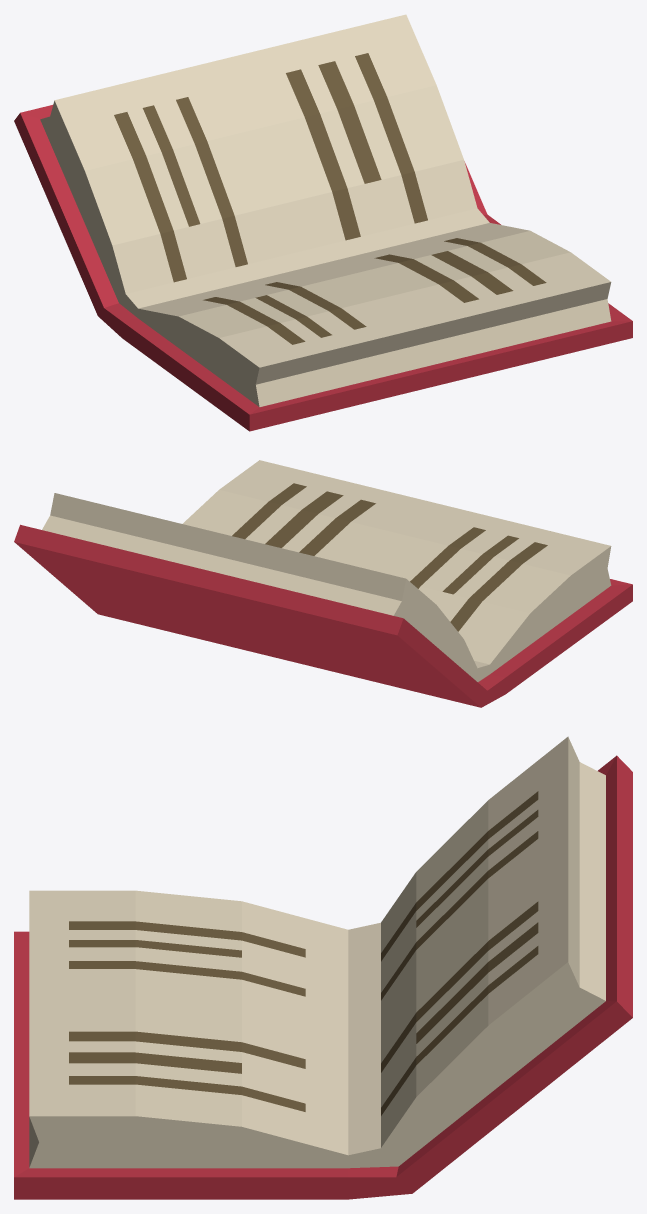
Rendered from Book2.glb.
3 renders of one model, top to bottom at view 1: azimuth 30°, elevation 25°; view 2: azimuth 150°, elevation 25°; view 3: azimuth 270°, elevation 25°, orthographic. The views are drawn at different scales.
Parts seen in each view (by area): view 1: Book2; view 2: Book2; view 3: Book2.
Part boxes in pixels (left/top/right/bottom): Book2: left=14, top=14, right=632, bottom=431; Book2: left=14, top=460, right=632, bottom=707; Book2: left=14, top=736, right=632, bottom=1199.
Bounding box in the file's own units: 1.19 × 0.515 × 1.27.
